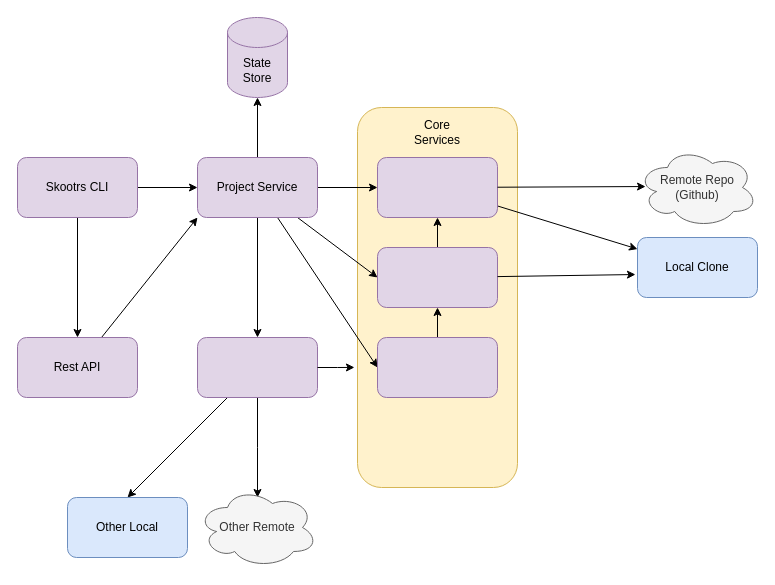
This 775x585 diagram has some shape labels left out. Here are the shapes that lost their labels. From the top down, the centre of each, then its label:
At point (437, 187): "Repo Service".
At point (437, 277): "Source Service".
At point (257, 367): "Facet Service".
At point (437, 367): "Ecosystem Service".
